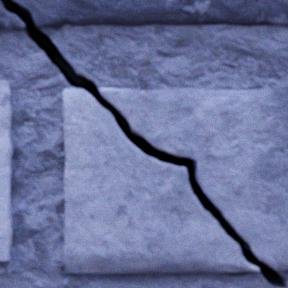brick: (0, 81, 12, 260)
broken_brick: (63, 89, 258, 272), (99, 88, 287, 269), (13, 0, 287, 28), (0, 0, 25, 29)
crack: (1, 0, 287, 287)
